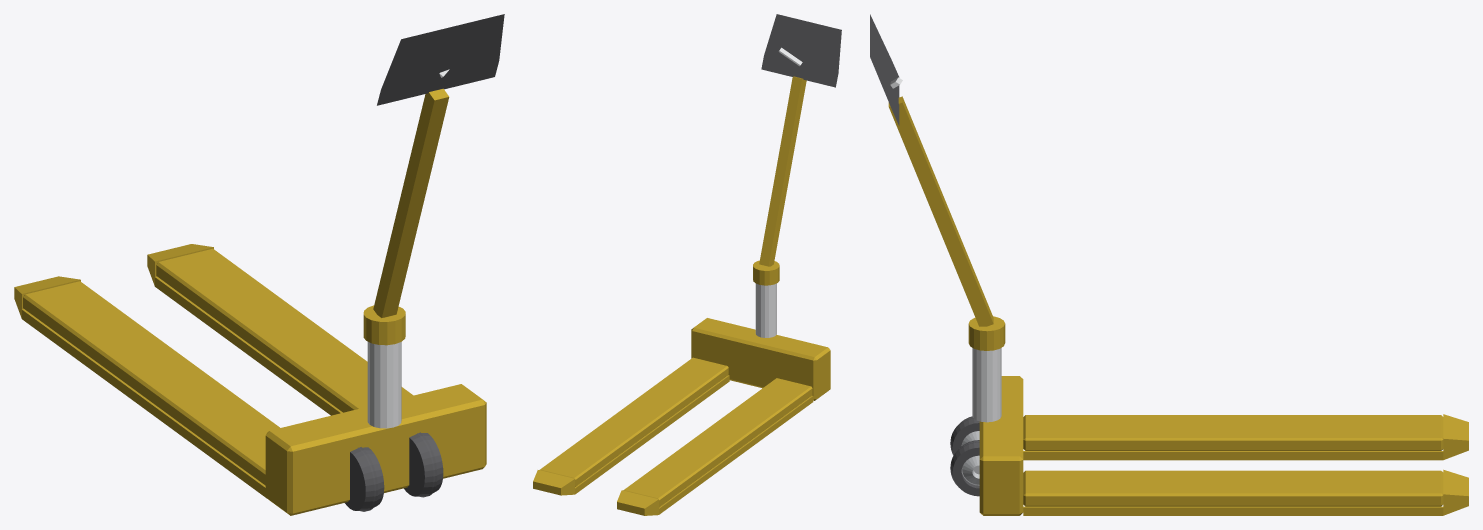
File: paleteira.glb
3 views of the same model, side by side, from view 1: azimuth 30°, elevation 25°; view 2: azimuth 150°, elevation 25°; view 3: azimuth 270°, elevation 25° (orthographic). The views are drawn at different scales.
Parts seen in each view (by area): view 1: paleteira_amarelo_maquina, paleteira_borracha, paleteira_aco_polido; view 2: paleteira_amarelo_maquina, paleteira_borracha, paleteira_aco_polido; view 3: paleteira_amarelo_maquina, paleteira_borracha, paleteira_aco_polido.
Part boxes in pixels (box(x1,y1,x2,y2)): paleteira_amarelo_maquina: box(14, 88, 486, 515); paleteira_borracha: box(345, 14, 504, 511); paleteira_aco_polido: box(367, 69, 449, 428); paleteira_amarelo_maquina: box(533, 76, 830, 515); paleteira_borracha: box(761, 14, 841, 87); paleteira_aco_polido: box(755, 47, 802, 337); paleteira_amarelo_maquina: box(888, 96, 1468, 515); paleteira_borracha: box(870, 14, 979, 496); paleteira_aco_polido: box(890, 77, 1001, 422).
Size of the model in its own units: 0.54 by 1.35 by 1.64.
